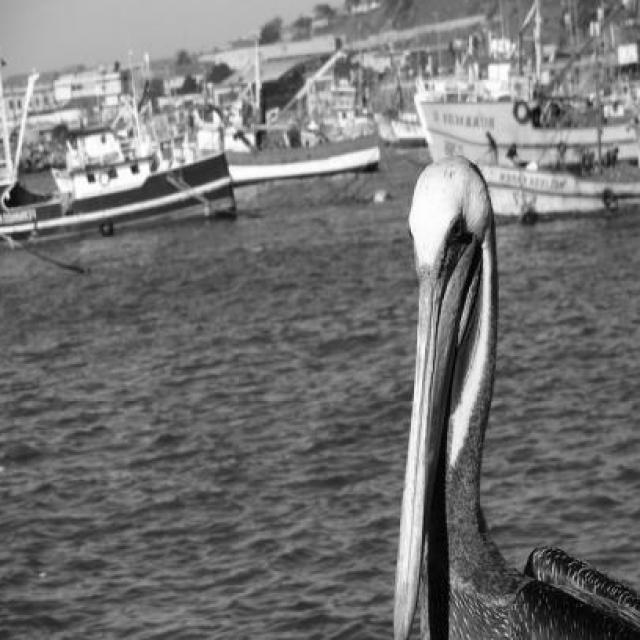ship: (416, 0, 640, 233), (0, 111, 245, 248), (199, 80, 397, 190)
